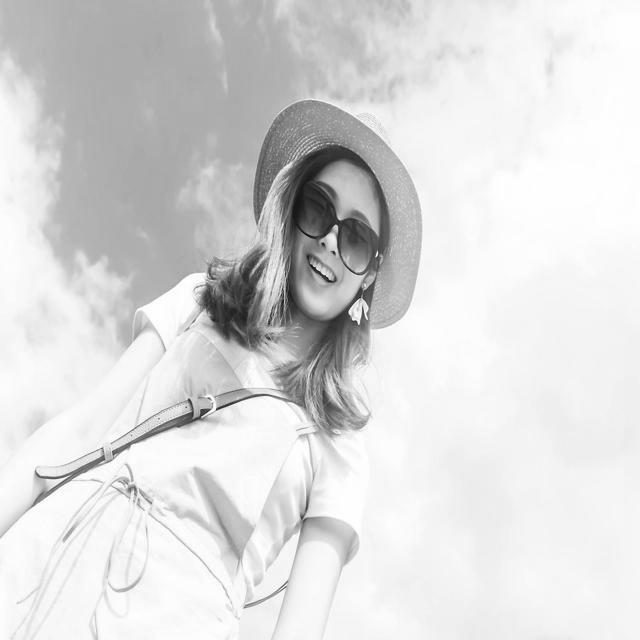Happiness: (288, 160, 387, 322)
